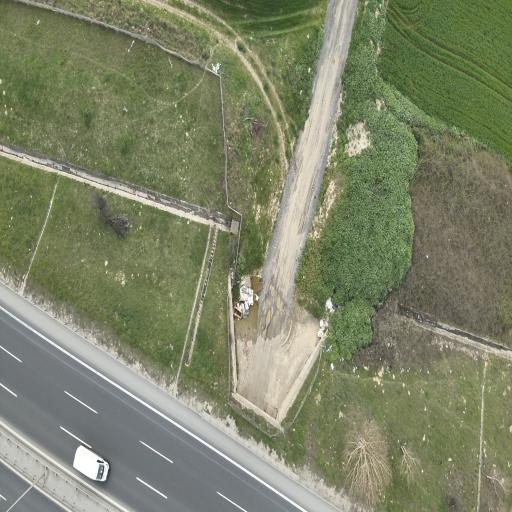car: (74, 445, 109, 480)
